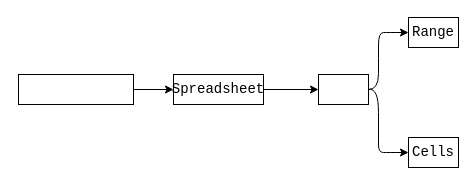
Some shapes in this 476 by 185 pixel diagram are drawn without their labels. Here are the shapes that lost their labels. From the top down, the box of each, then its label:
(18, 74, 134, 104): SpreadsheetApp
(318, 74, 368, 104): Sheet
